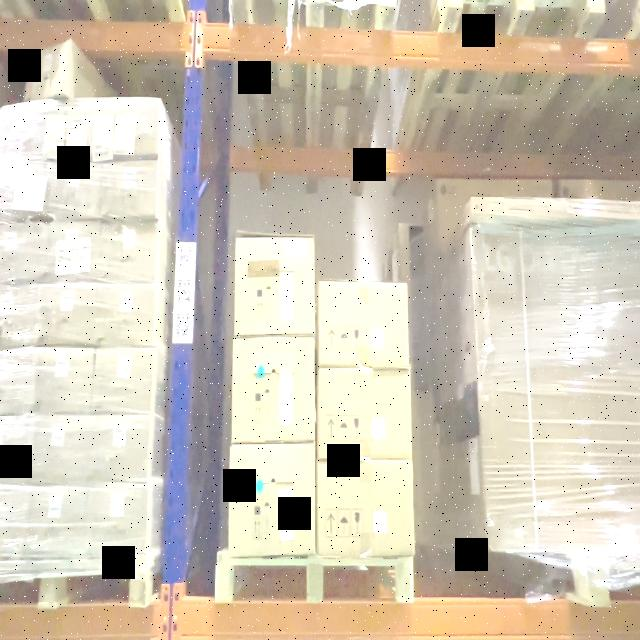box: (230, 446, 314, 554), (318, 460, 412, 552), (318, 370, 411, 457), (234, 340, 314, 440), (320, 281, 408, 367), (237, 238, 314, 334), (88, 488, 148, 556), (93, 414, 149, 484), (94, 99, 160, 158), (35, 415, 90, 484), (32, 487, 84, 557), (40, 284, 98, 344), (96, 348, 151, 411), (38, 348, 92, 412), (98, 285, 154, 346), (47, 220, 101, 282), (101, 222, 157, 280), (48, 162, 100, 220), (103, 160, 157, 215), (24, 40, 70, 100), (49, 100, 92, 156), (436, 179, 554, 199), (473, 198, 573, 216), (560, 180, 640, 198)
